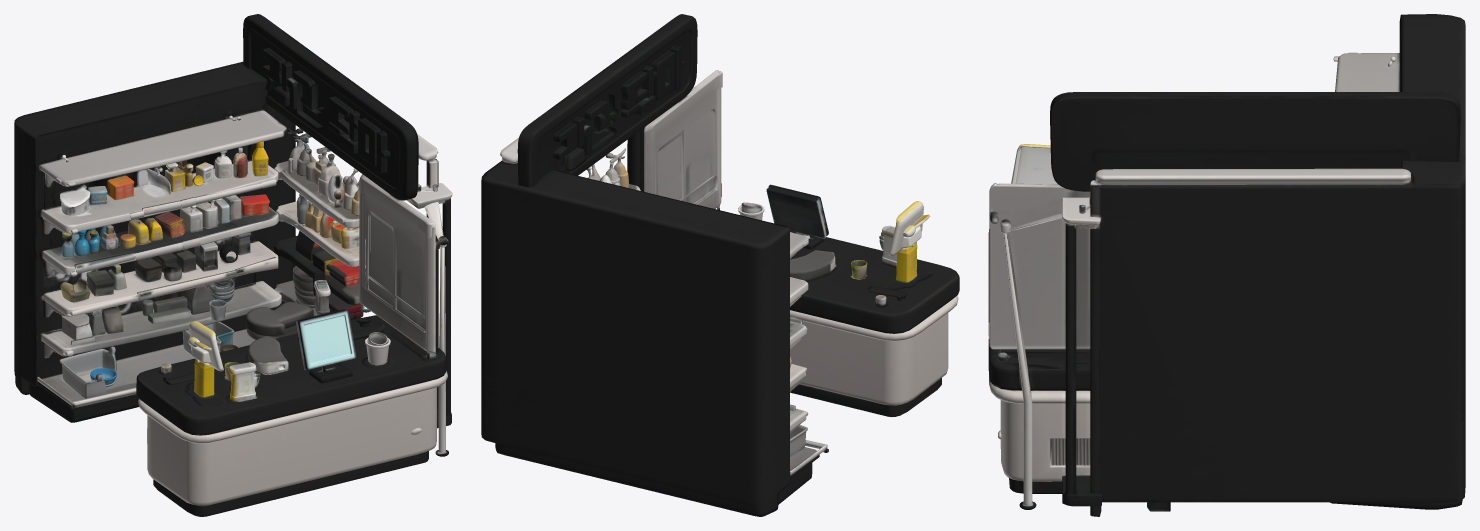
File: toonstudio_convenience_counter.glb
3 views of the same model, side by side, from view 1: azimuth 30°, elevation 25°; view 2: azimuth 150°, elevation 25°; view 3: azimuth 270°, elevation 25° (orthographic). The views are drawn at different scales.
Parts seen in each view (by area): view 1: tripo_7d7e493a_987b_46ae_b75c_0bf671c839c7; view 2: tripo_7d7e493a_987b_46ae_b75c_0bf671c839c7; view 3: tripo_7d7e493a_987b_46ae_b75c_0bf671c839c7.
Part boxes in pixels (x1,y1,x2,y2): tripo_7d7e493a_987b_46ae_b75c_0bf671c839c7: (14,14,452,516); tripo_7d7e493a_987b_46ae_b75c_0bf671c839c7: (481,14,959,516); tripo_7d7e493a_987b_46ae_b75c_0bf671c839c7: (988,14,1465,516).
Size of the model in its own units: 2.67 by 2.78 by 3.
1 material, 1 textured.
